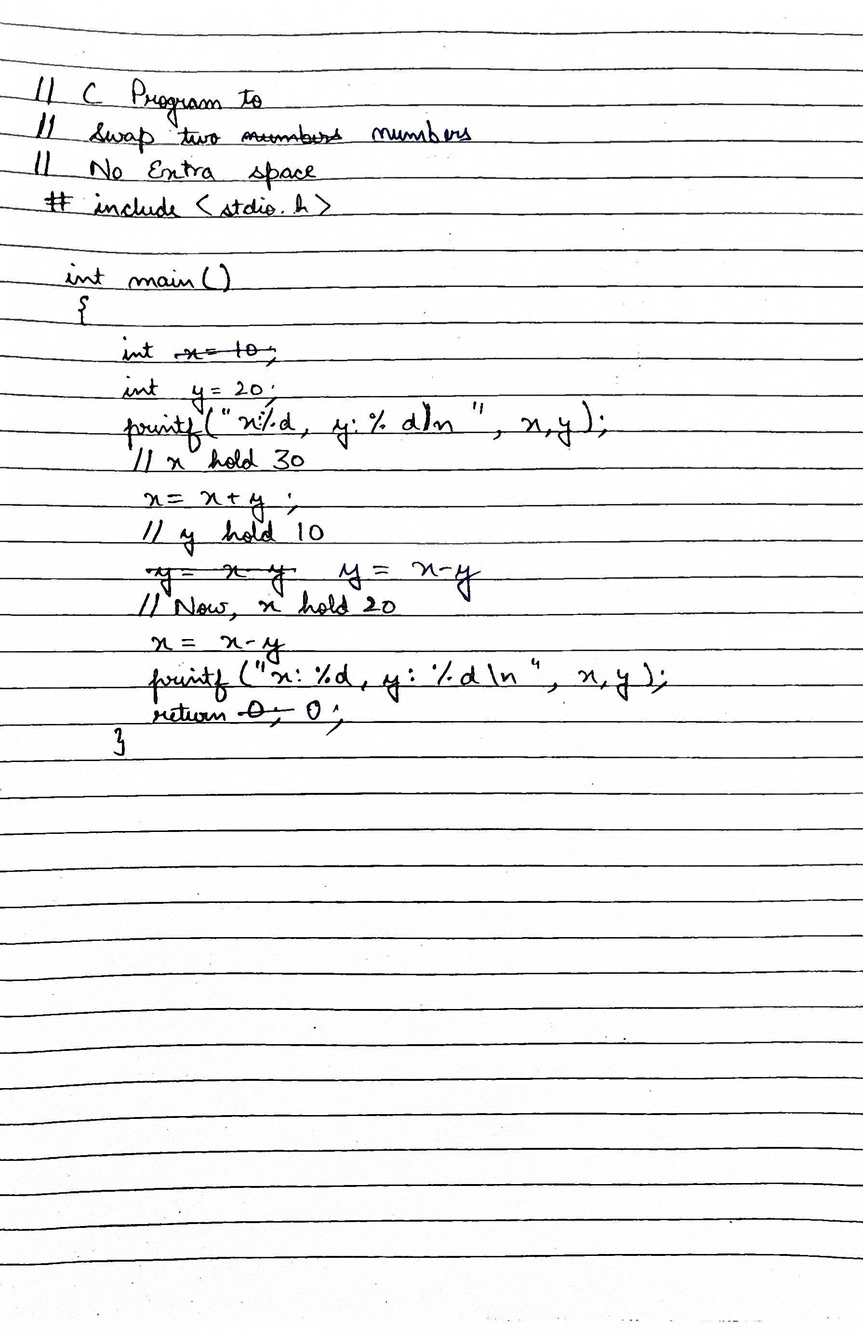cuttings: (144, 563, 298, 600), (239, 122, 346, 146), (172, 339, 278, 362), (236, 698, 296, 719)
